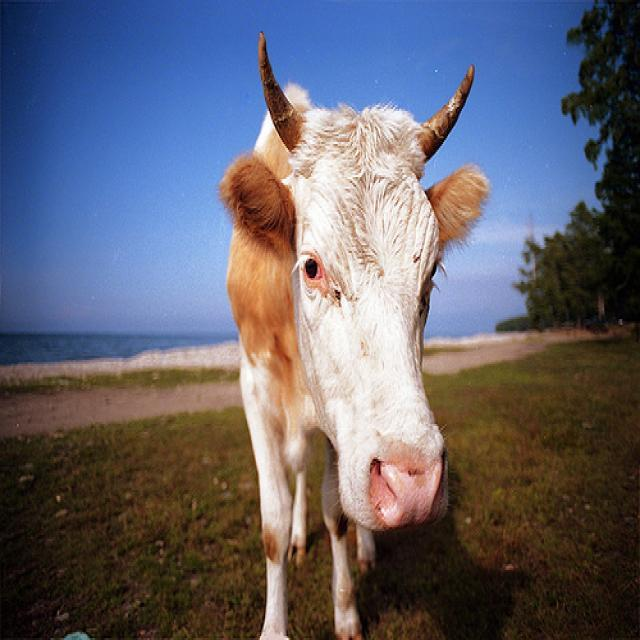cow: (219, 29, 484, 630)
